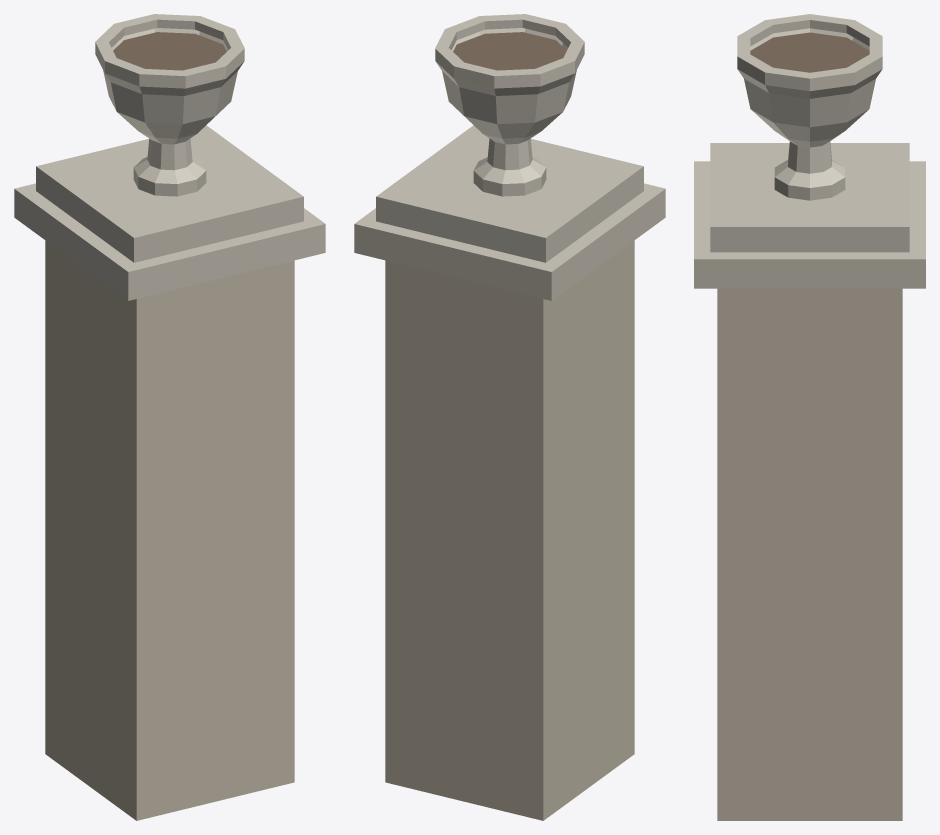
Rendered from SM_BM_BHip_GatePier.glb.
3 views of the same model, side by side, from view 1: azimuth 30°, elevation 25°; view 2: azimuth 150°, elevation 25°; view 3: azimuth 270°, elevation 25° (orthographic).
Parts seen in each view (by area): view 1: SM_BM_BHip_GatePier; view 2: SM_BM_BHip_GatePier; view 3: SM_BM_BHip_GatePier.
Boxes of the visible parts, left/top/right/bottom form: SM_BM_BHip_GatePier: left=14, top=14, right=325, bottom=820; SM_BM_BHip_GatePier: left=354, top=14, right=665, bottom=820; SM_BM_BHip_GatePier: left=694, top=14, right=925, bottom=820.
Size of the model in its own units: 1 by 3.5 by 1.
